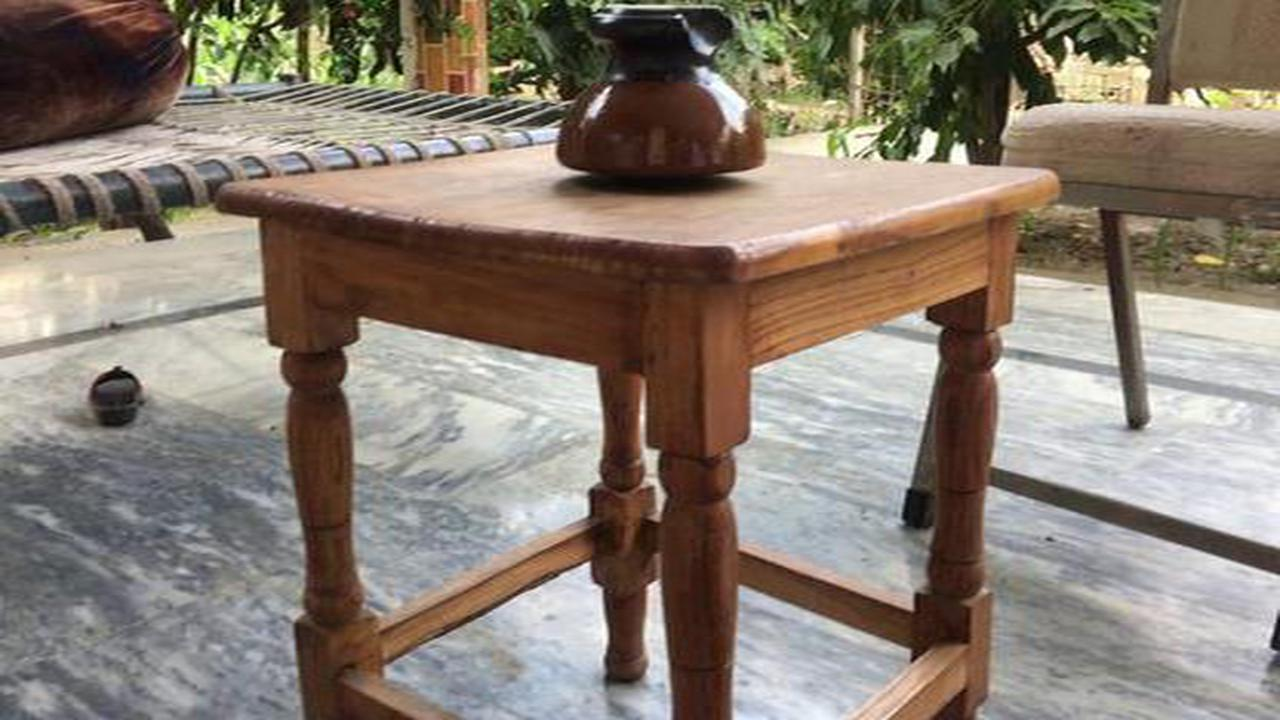insulator_pin: (551, 2, 782, 201)
